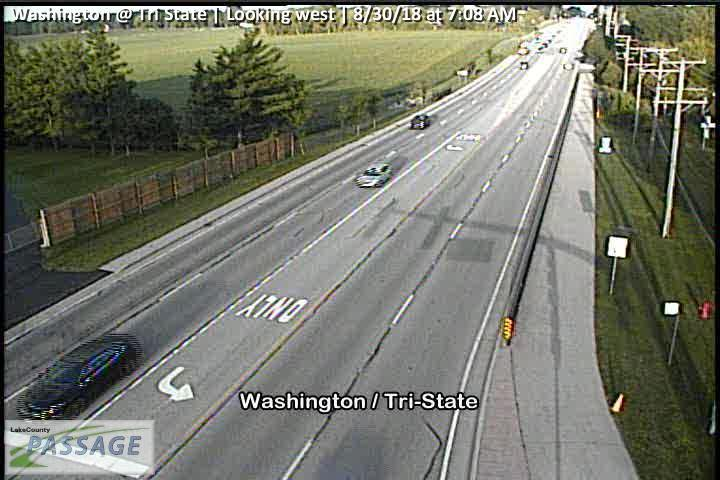Sedan: (14, 332, 141, 425), (355, 160, 392, 190), (406, 114, 430, 131)
